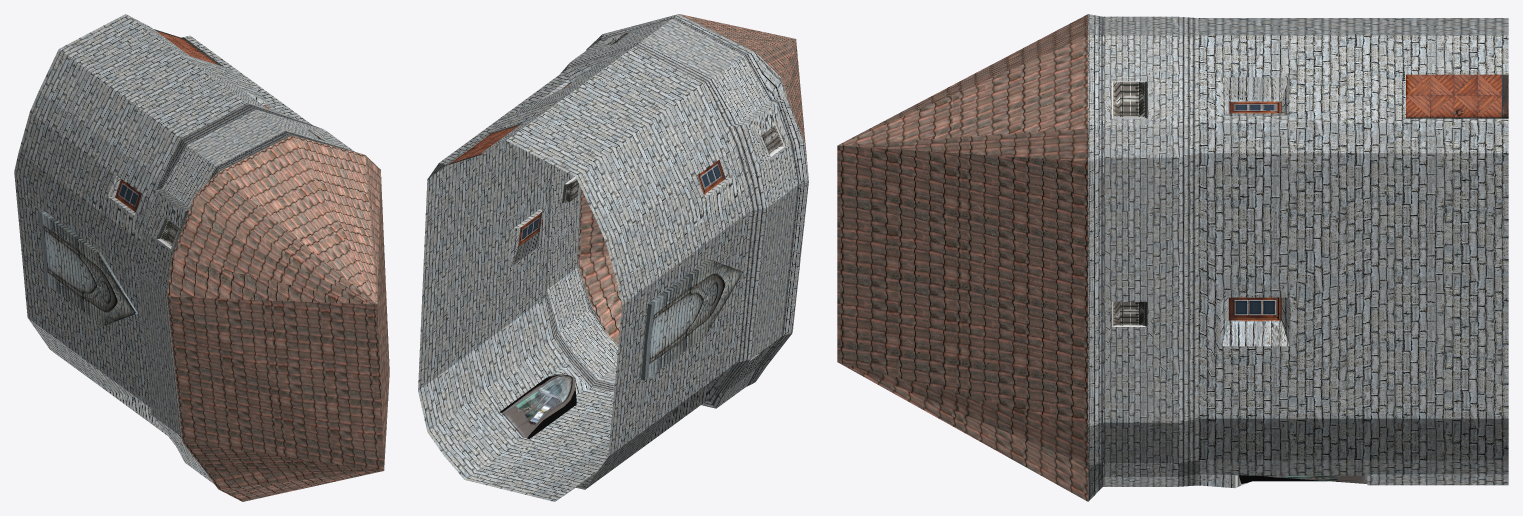
Rendered from Viru26a-origo.obj.
3 renders of one model, left to right at view 1: azimuth 30°, elevation 25°; view 2: azimuth 150°, elevation 25°; view 3: azimuth 270°, elevation 25°, orthographic. The views are drawn at different scales.
Visible parts, largest first — view 1: Viru26a; view 2: Viru26a; view 3: Viru26a.
Part boxes in pixels (box(x1,y1,x2,y2)): Viru26a: box(14, 14, 389, 501); Viru26a: box(418, 14, 808, 501); Viru26a: box(837, 14, 1508, 501).
Size of the model in its own units: 6.25 by 9.5 by 12.88.
